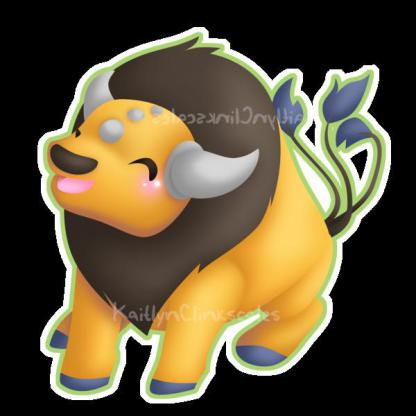Tauros: (4, 1, 416, 416)
